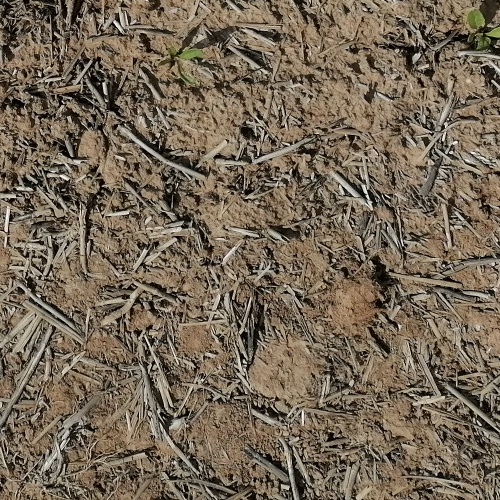beet: (160, 44, 202, 93), (467, 9, 500, 45)
